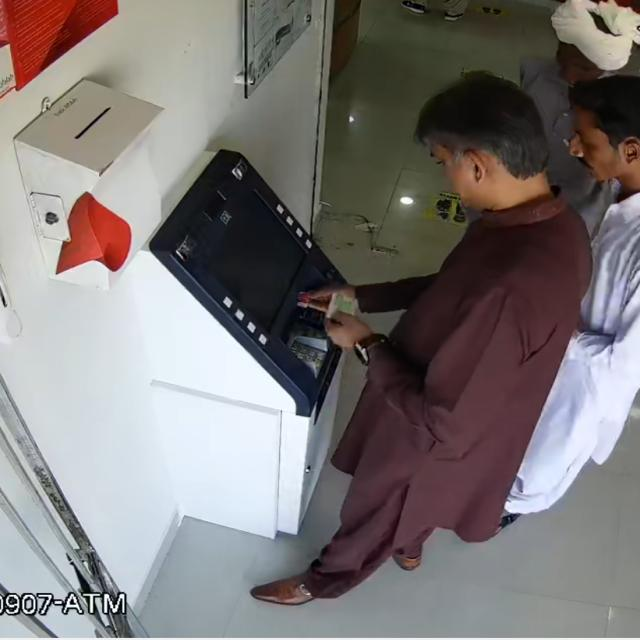atm-card: (286, 281, 333, 314)
